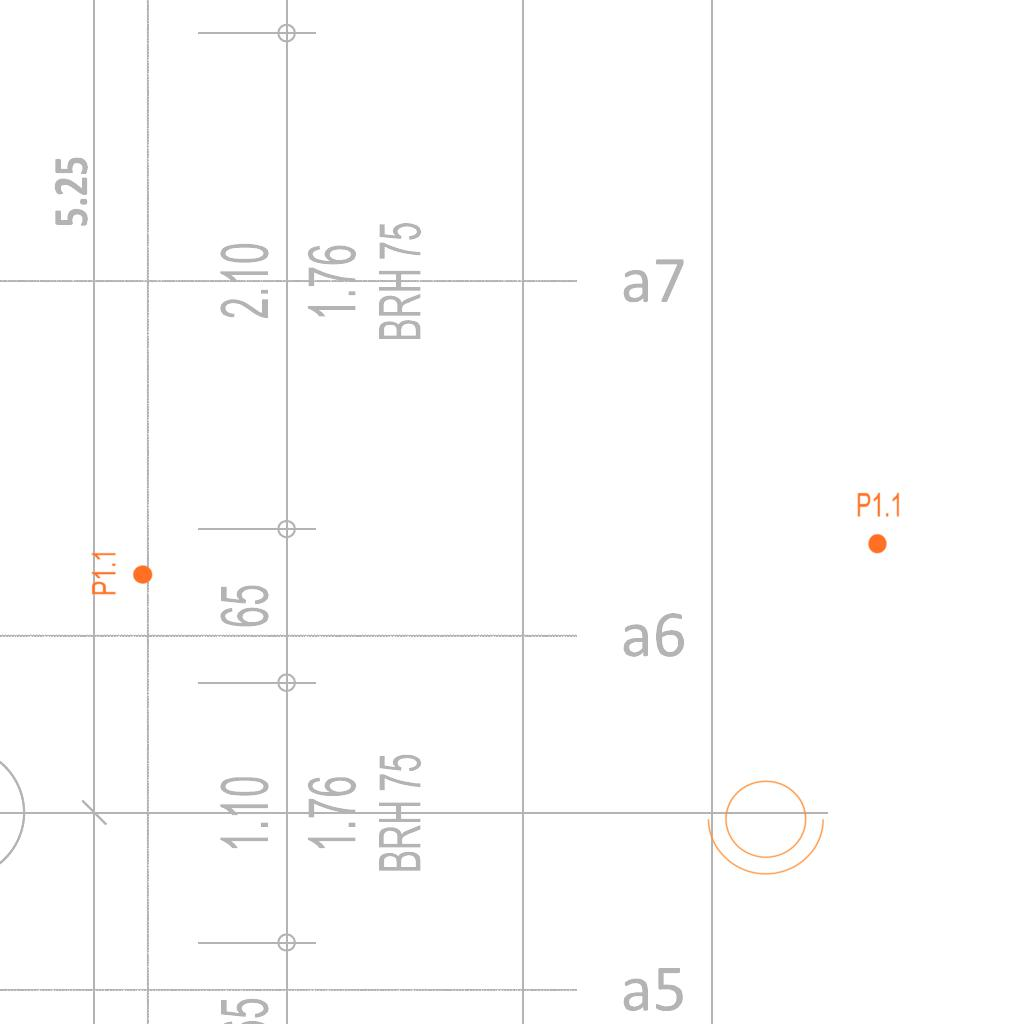Downlight_LED_Einbauleuchten_Flur: (90, 550, 154, 596), (856, 491, 902, 555)
Scheinwerfer_fuer_Alarmbeleuchtung: (703, 768, 835, 880)
